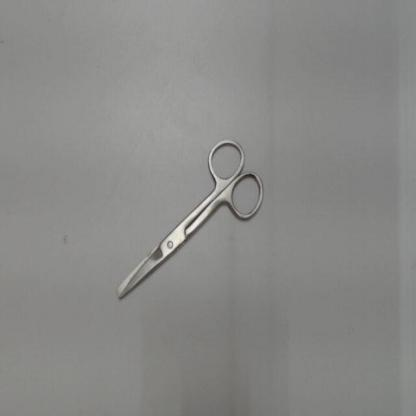Dressing Scissors: (106, 124, 278, 311)
